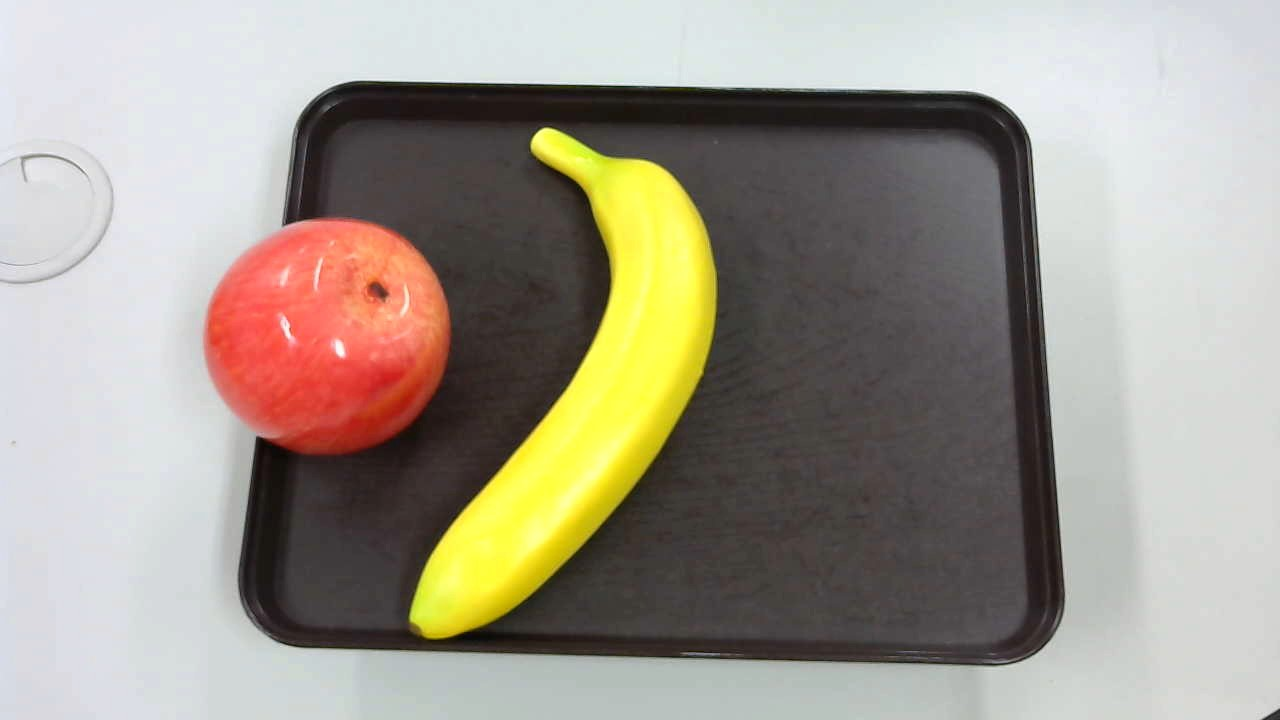banana: (408, 118, 728, 639)
red apple: (198, 210, 454, 464)
